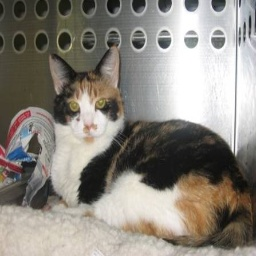cat: (35, 49, 247, 249)
